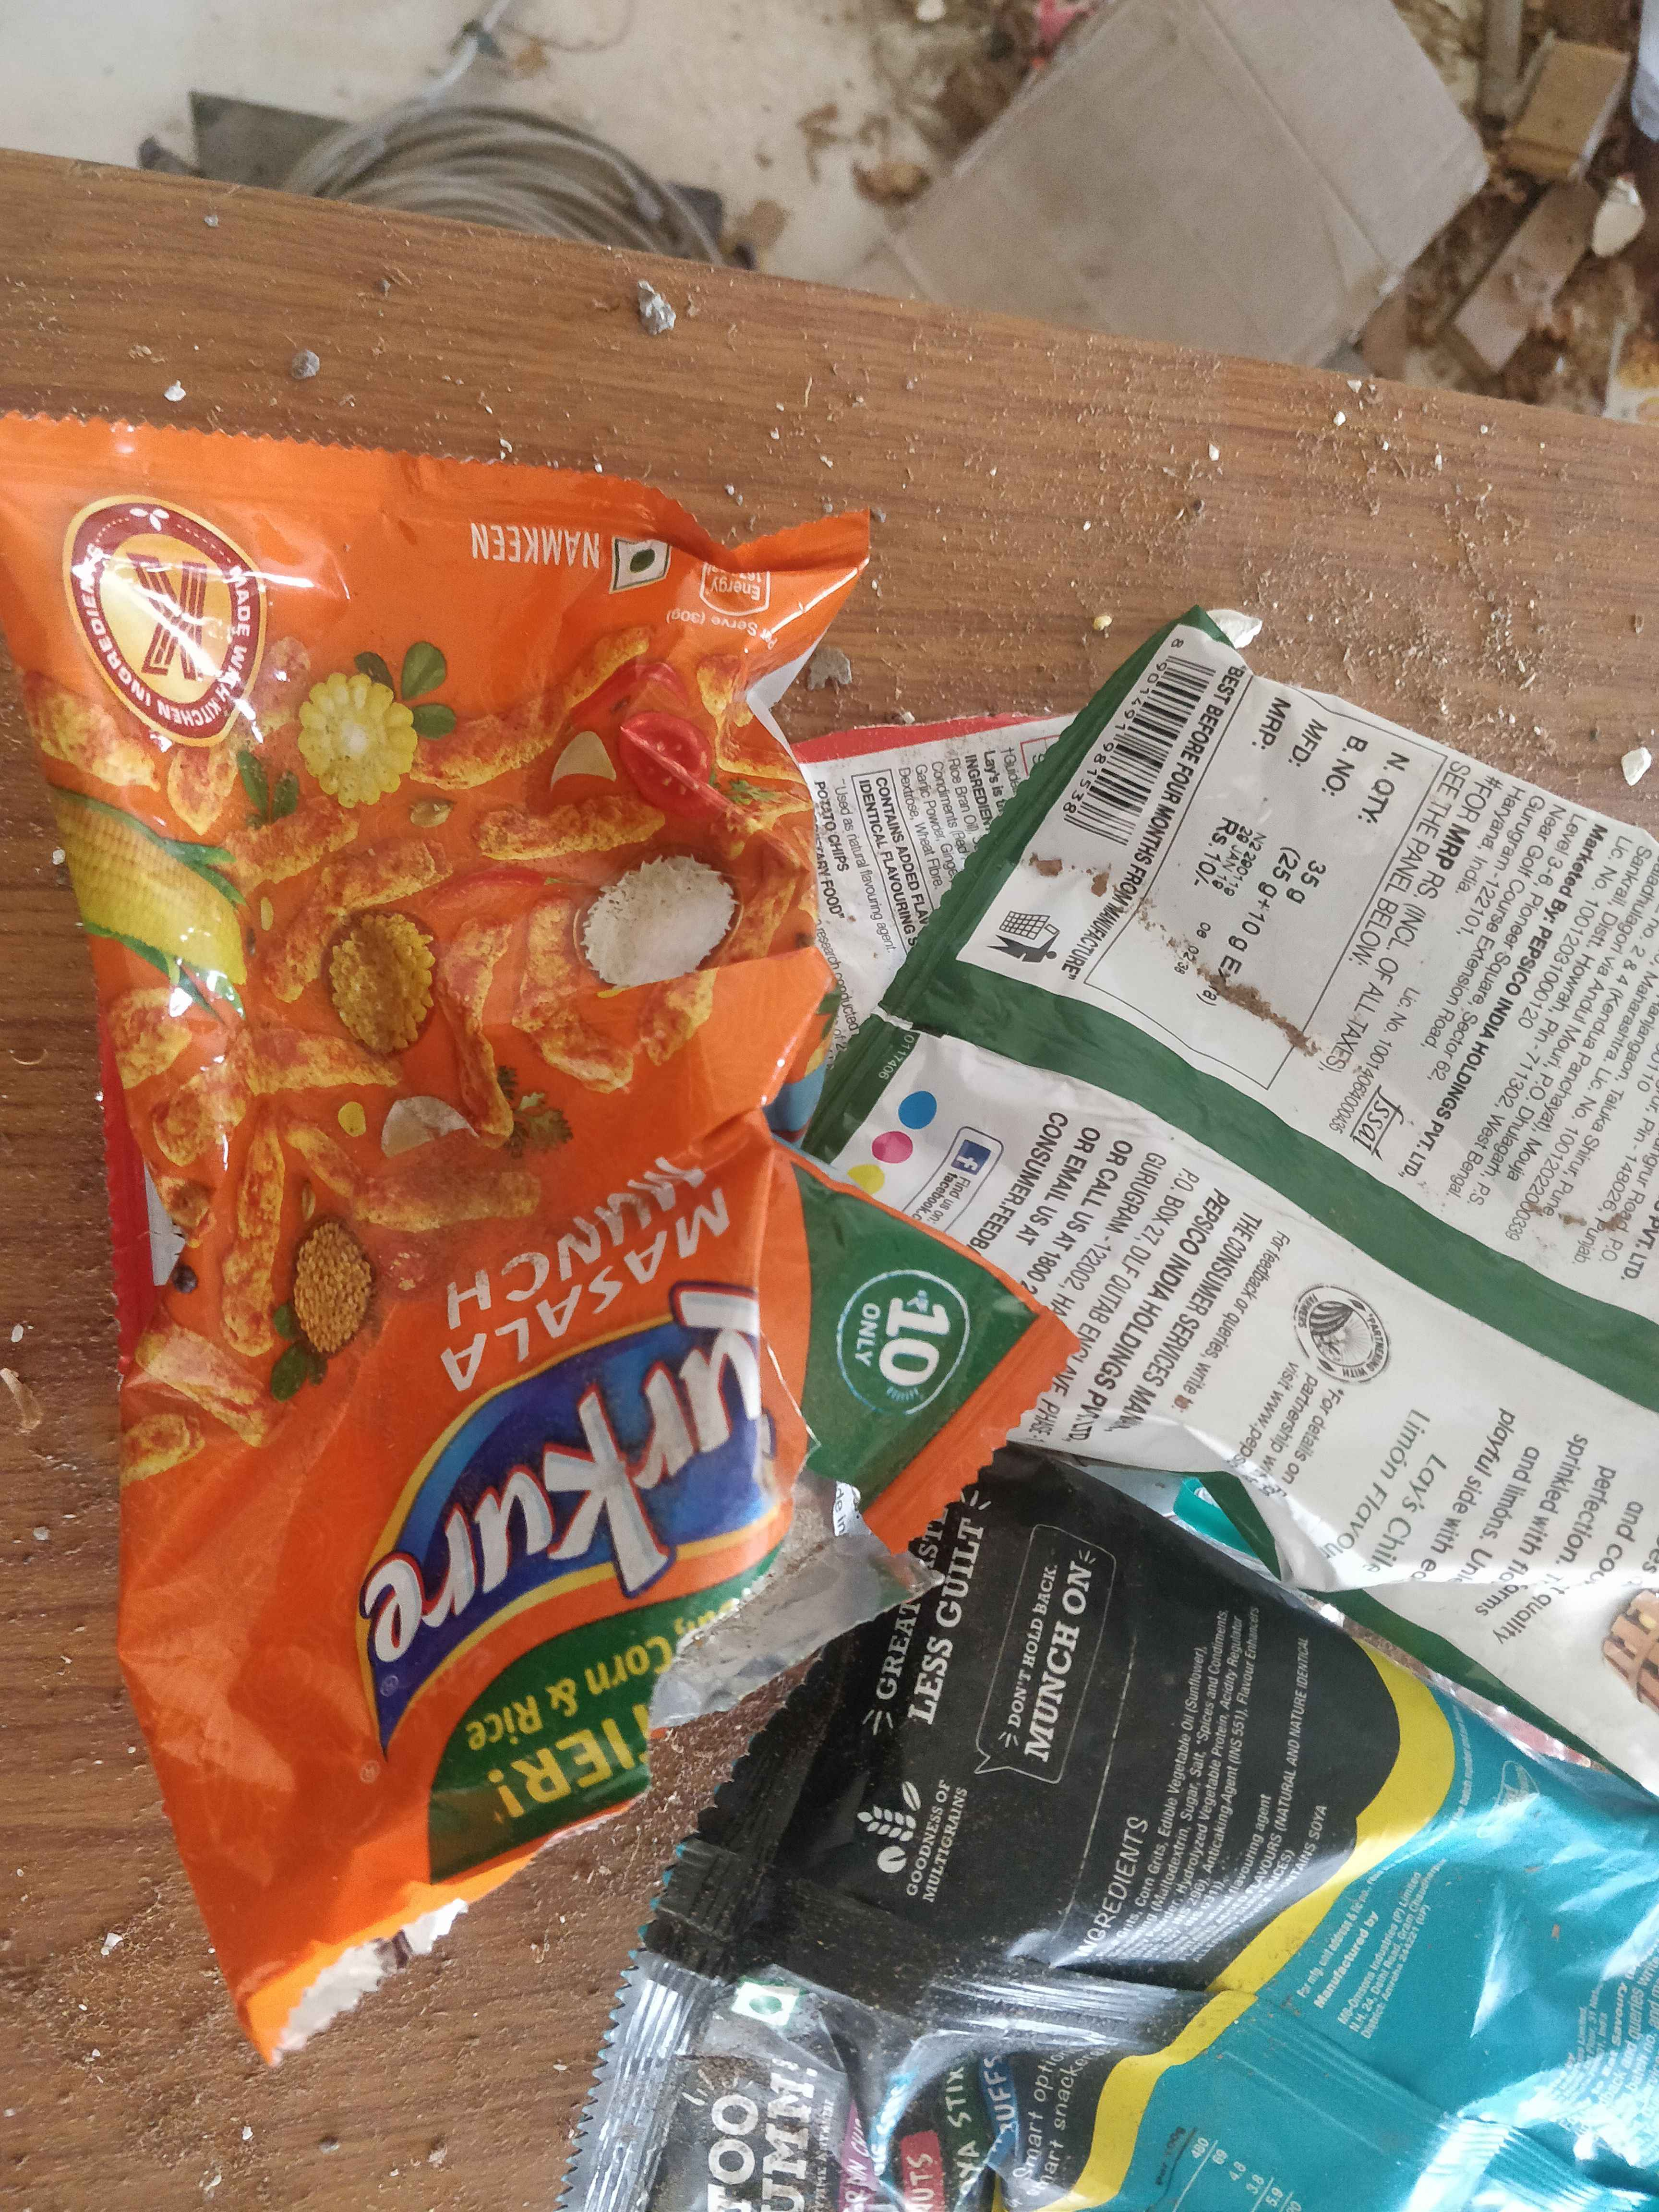kurkure: (312, 1278, 833, 1766)
tooyumm: (648, 2013, 892, 2212)
